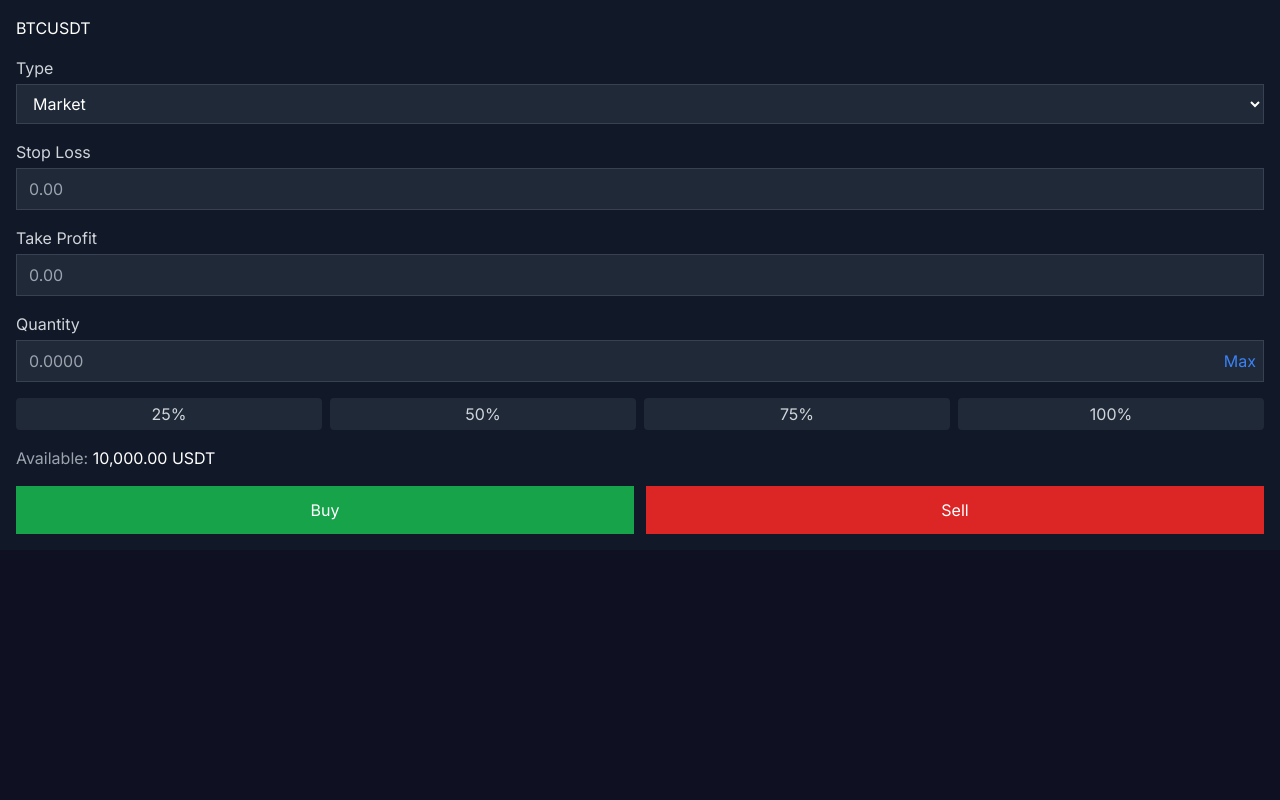
Test: PanelPB › validation › should show error for missing price on limit order
Select "Limit" in the dropdown labelled "Type" at (640, 104), box [16, 84, 1264, 124]
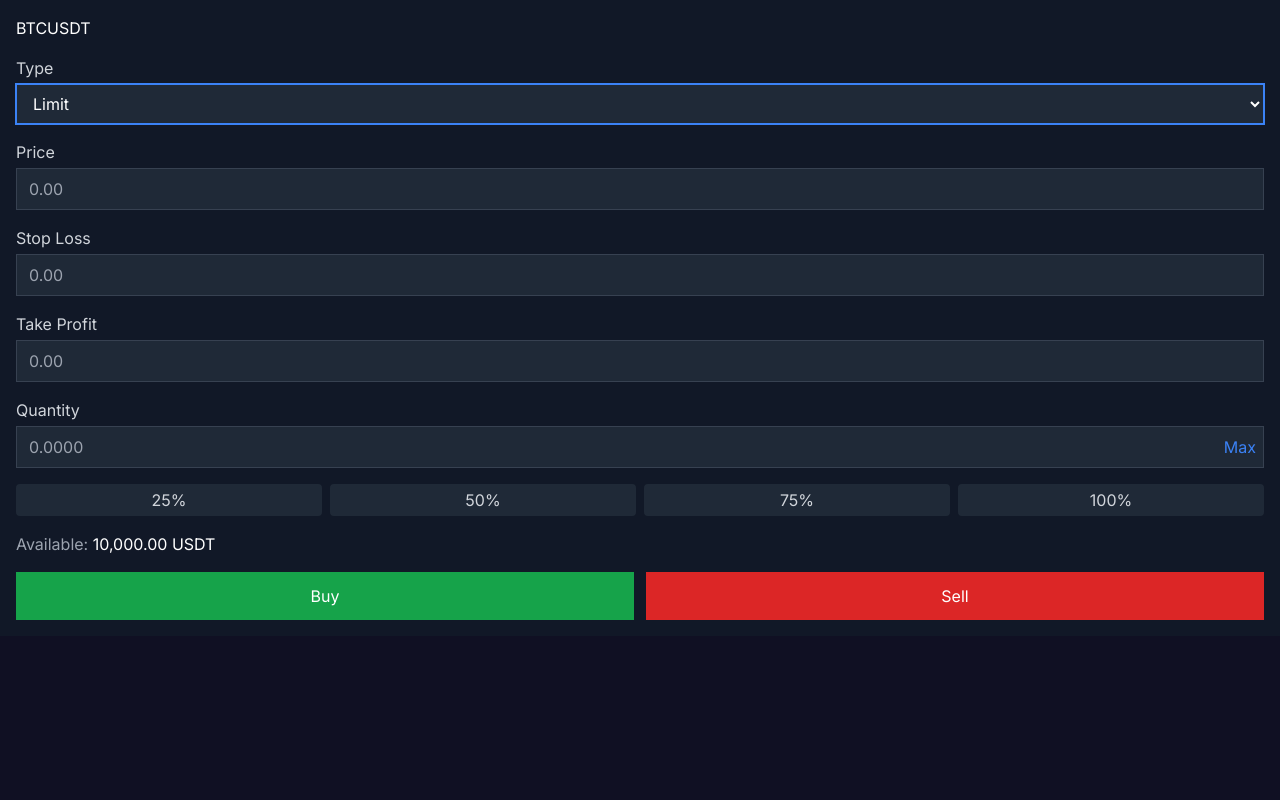
Type "0.001" into the number field labelled "Quantity" at (640, 447), box [16, 426, 1264, 468]
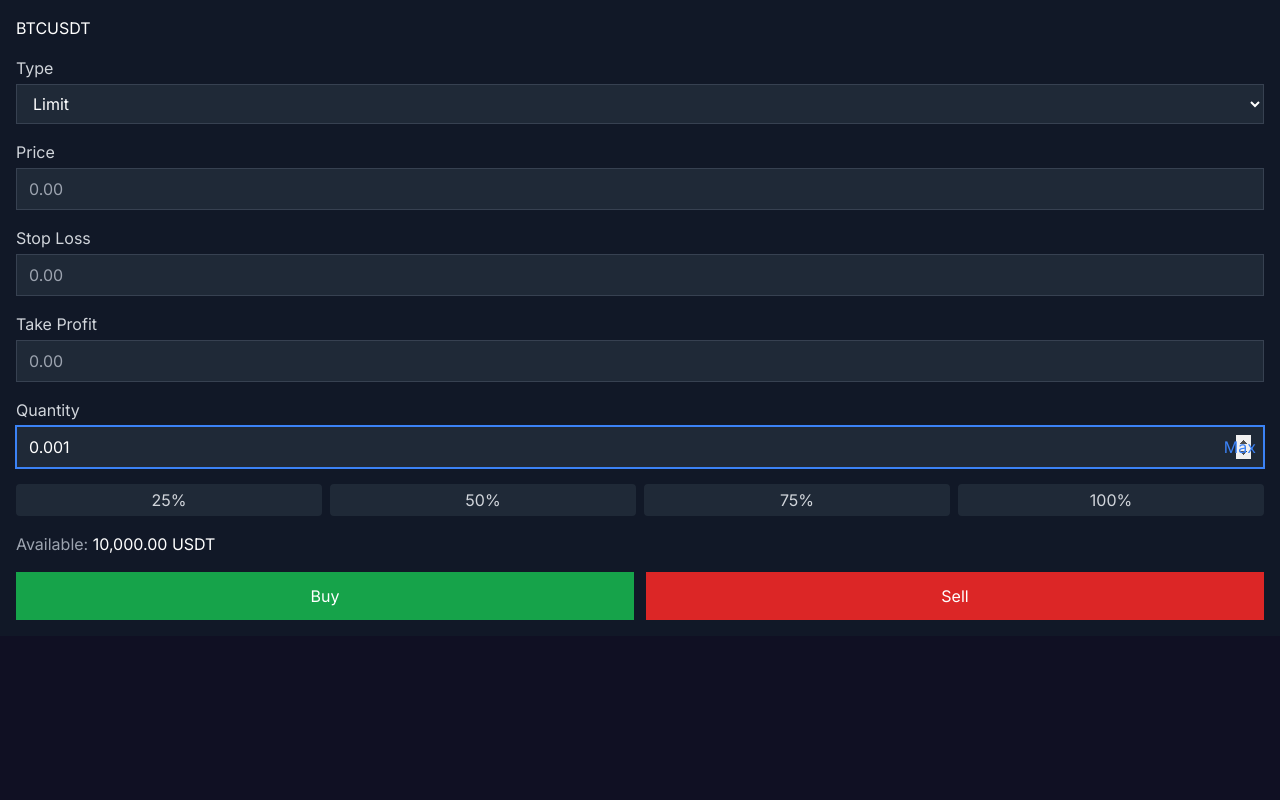
Click the button with test id "buy-button" at (325, 596), box [16, 572, 634, 620]
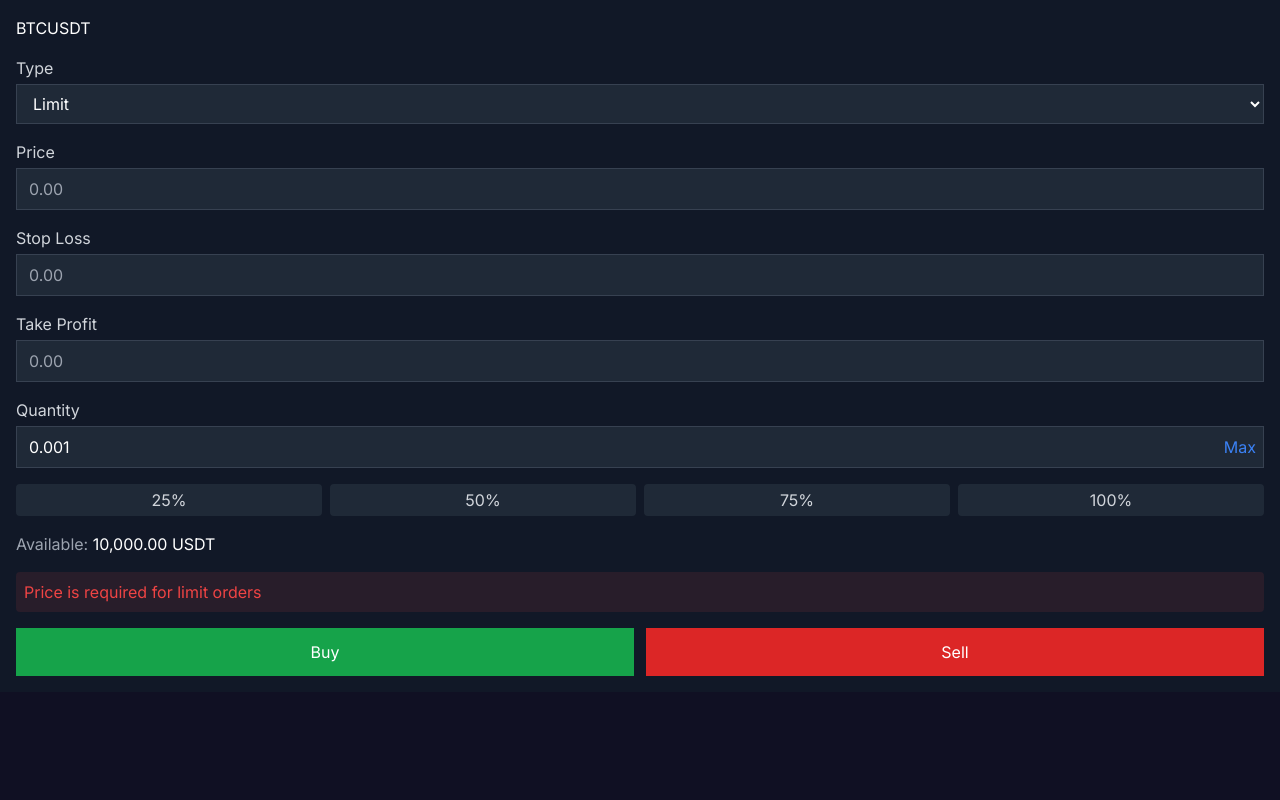
expect the text "Price is required for limit orders" is shown: met, box [16, 572, 1264, 612]
